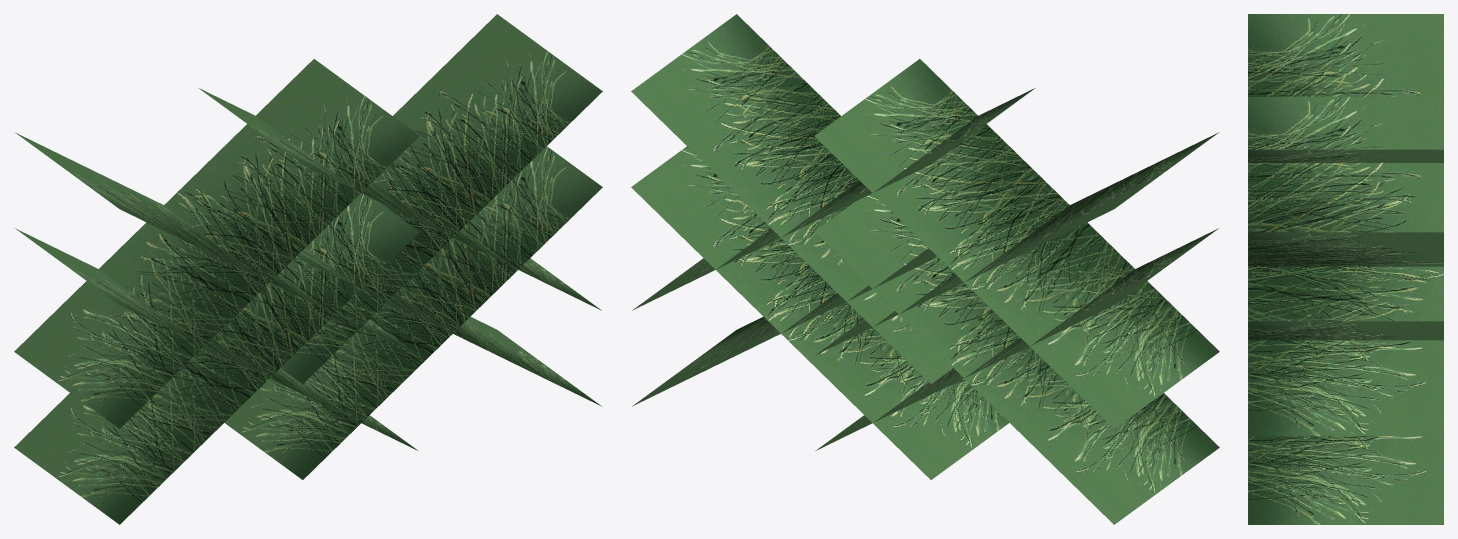
File: grass.FBX
3 views of the same model, side by side, from view 1: azimuth 30°, elevation 25°; view 2: azimuth 150°, elevation 25°; view 3: azimuth 270°, elevation 25° (orthographic). The views are drawn at different scales.
Parts seen in each view (by area): view 1: grass; view 2: grass; view 3: grass.
Part boxes in pixels (x1=…): grass: x1=14, y1=14, x2=602, y2=524; grass: x1=631, y1=14, x2=1219, y2=524; grass: x1=1248, y1=14, x2=1443, y2=524.
Size of the model in its own units: 52.77 by 20 by 32.94.
